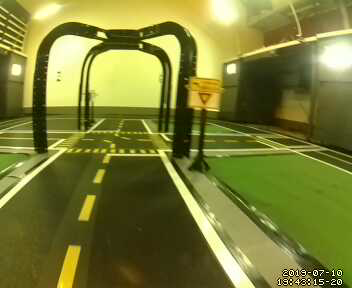Turn Yield: (189, 76, 222, 110)
